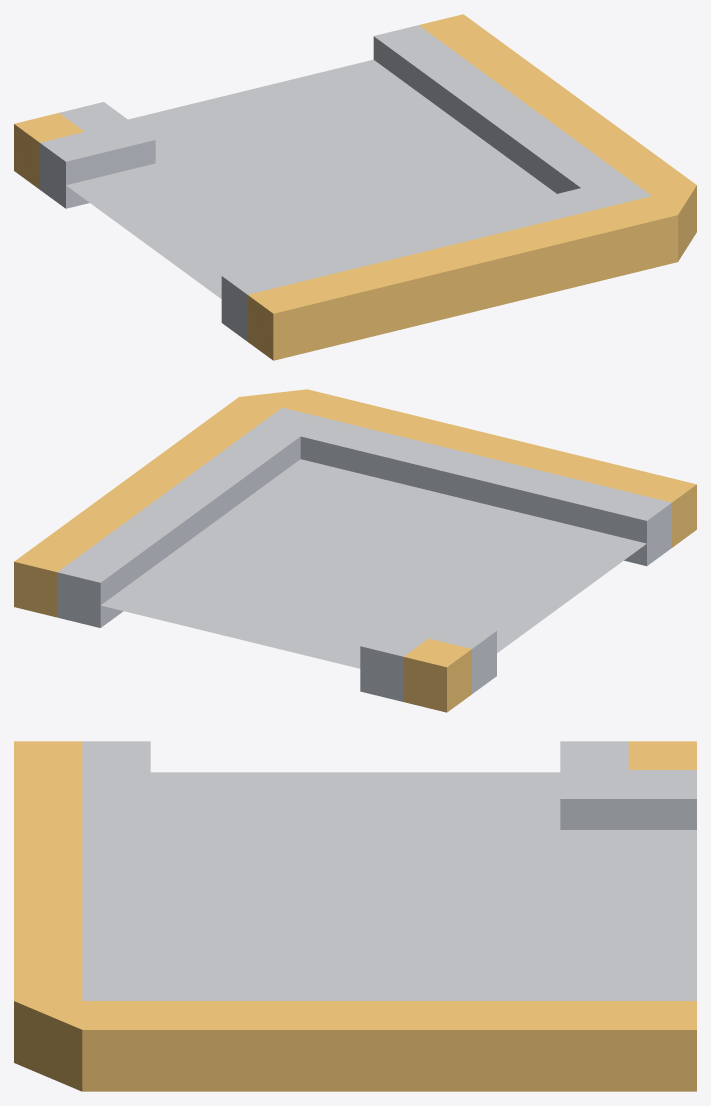
File: platform_corner.glb
3 renders of one model, top to bottom at view 1: azimuth 30°, elevation 25°; view 2: azimuth 150°, elevation 25°; view 3: azimuth 270°, elevation 25°, orthographic. The views are drawn at different scales.
Visible parts, largest first — view 1: platform_corner; view 2: platform_corner; view 3: platform_corner.
Part boxes in pixels (left/top/right/bottom): platform_corner: left=14, top=14, right=696, bottom=360; platform_corner: left=14, top=389, right=696, bottom=712; platform_corner: left=14, top=741, right=696, bottom=1091.
Size of the model in its own units: 1.3 by 0.13 by 1.3.
